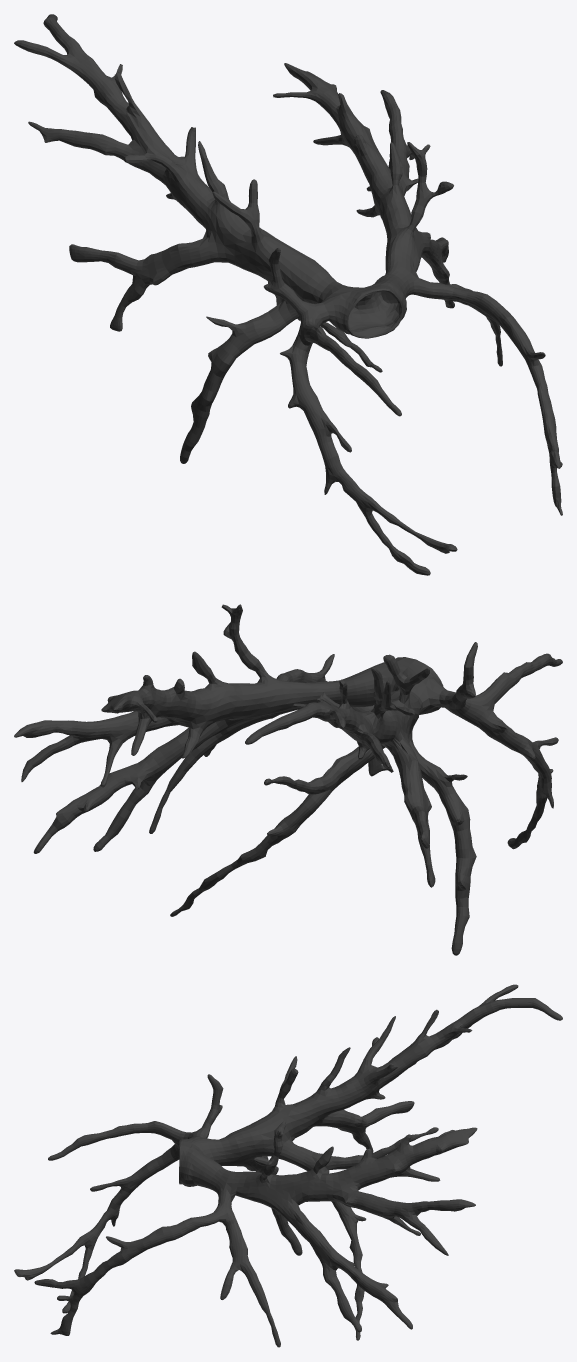
The model's file is bronchial_tree_filled_LOW.glb.
3 renders of one model, top to bottom at view 1: azimuth 30°, elevation 25°; view 2: azimuth 150°, elevation 25°; view 3: azimuth 270°, elevation 25°, orthographic. The views are drawn at different scales.
Parts seen in each view (by area): view 1: bronchial_tree_filled_LOW; view 2: bronchial_tree_filled_LOW; view 3: bronchial_tree_filled_LOW.
Boxes of the visible parts, bbox=[...] form: bronchial_tree_filled_LOW: bbox=[14, 14, 562, 575]; bronchial_tree_filled_LOW: bbox=[14, 604, 562, 955]; bronchial_tree_filled_LOW: bbox=[14, 984, 562, 1347].
Bounding box in the file's own units: 0.0108 × 0.00978 × 0.0171.
1 material, 1 textured.
